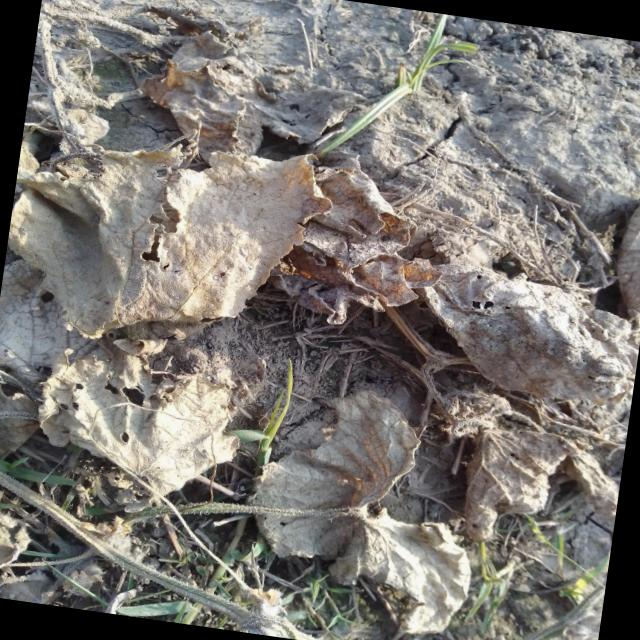cucumber_bacterial: (1, 117, 323, 350), (269, 370, 494, 640), (18, 336, 278, 520)
